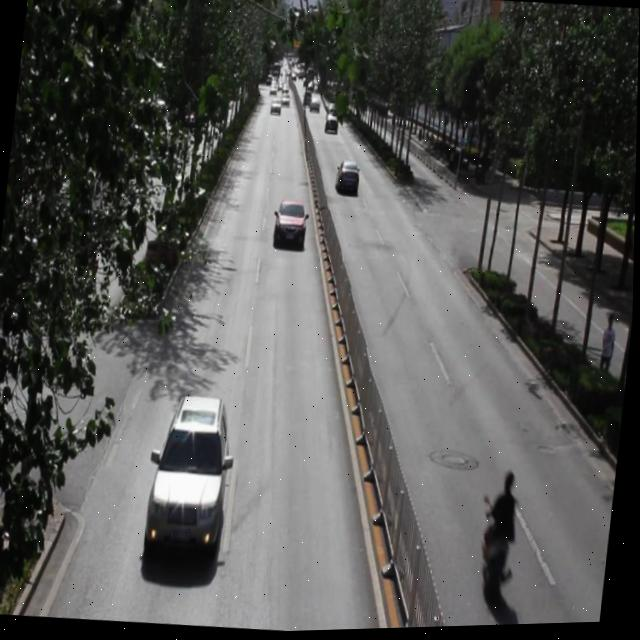car: (144, 390, 238, 555), (272, 198, 310, 248), (334, 160, 361, 195), (325, 103, 342, 123), (323, 116, 340, 135), (268, 97, 282, 116), (309, 93, 321, 113), (280, 93, 292, 108)
